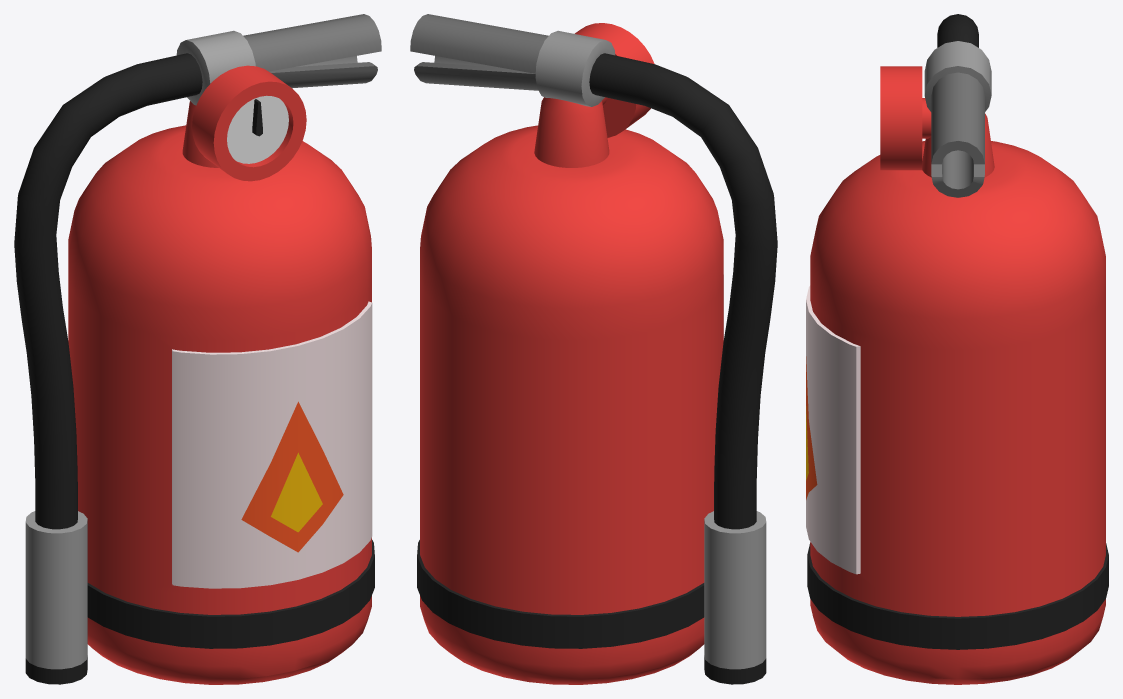
Rendered from fire_extinguisher.fbx.
The picture shows the model from 3 angles, left to right: view 1: azimuth 30°, elevation 25°; view 2: azimuth 150°, elevation 25°; view 3: azimuth 270°, elevation 25°; orthographic projection. The views are drawn at different scales.
Parts seen in each view (by area): view 1: Circle.2610; view 2: Circle.2610; view 3: Circle.2610.
Part boxes in pixels (box(x1,y1,x2,y2)): Circle.2610: box(14, 14, 381, 684); Circle.2610: box(410, 14, 777, 684); Circle.2610: box(806, 14, 1108, 684).
Bounding box in the file's own units: 137 × 221 × 105.
Materials: 1 (1 with a texture image).
